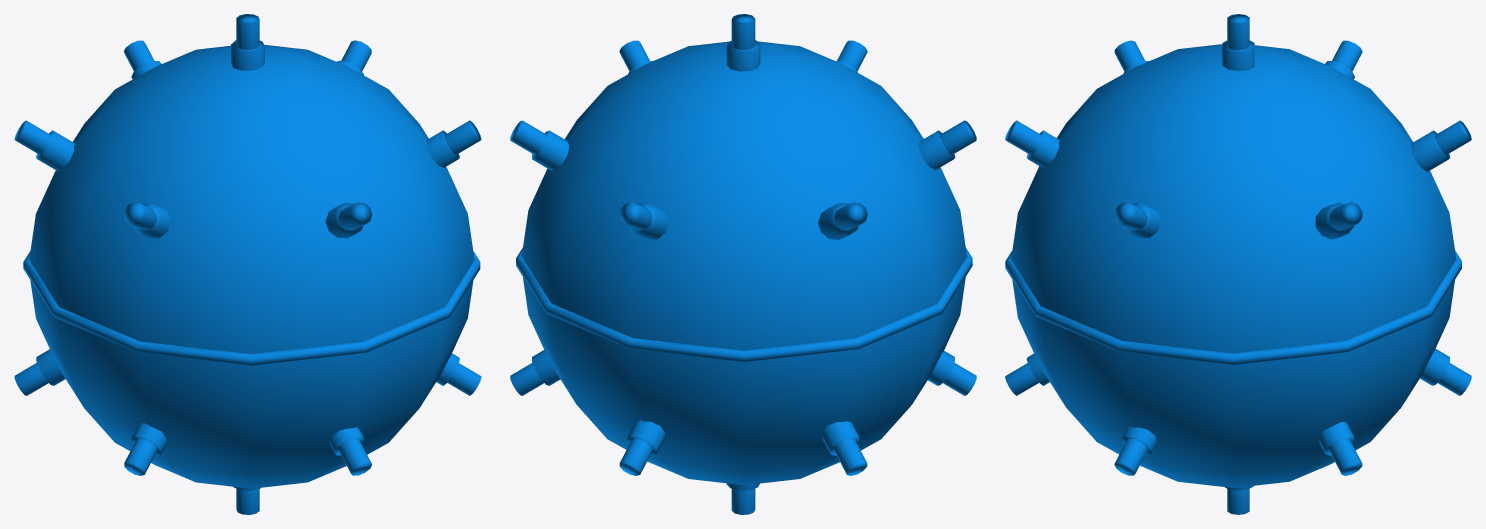
File: Mine_Lod0.fbx
The picture shows the model from 3 angles, left to right: view 1: azimuth 30°, elevation 25°; view 2: azimuth 150°, elevation 25°; view 3: azimuth 270°, elevation 25°; orthographic projection.
Parts seen in each view (by area): view 1: Mine_Lod0; view 2: Mine_Lod0; view 3: Mine_Lod0.
Boxes of the visible parts, bbox=[...] form: Mine_Lod0: bbox=[14, 14, 481, 514]; Mine_Lod0: bbox=[510, 14, 976, 514]; Mine_Lod0: bbox=[1005, 14, 1471, 514].
Bounding box in the file's own units: 1162 × 1379 × 1188.
